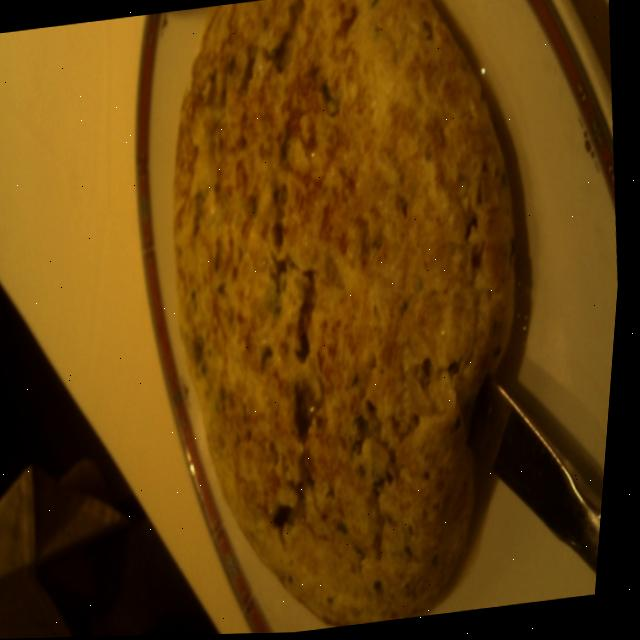面包点心: (60, 0, 606, 607)
